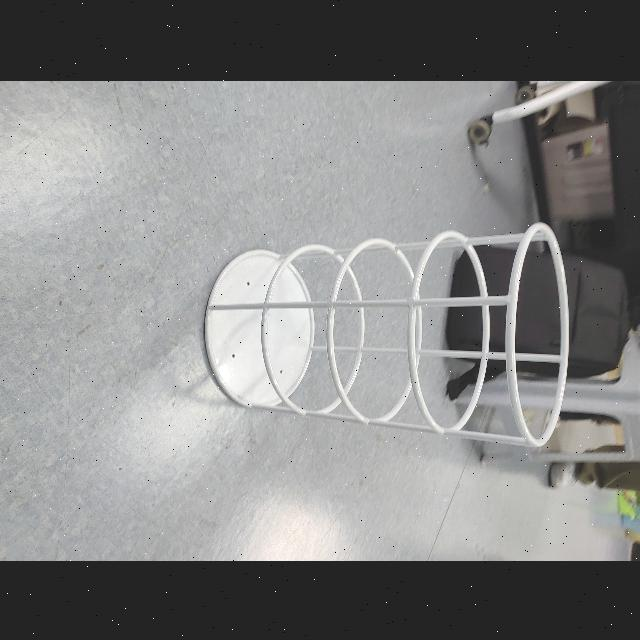S: (200, 218, 574, 450)
